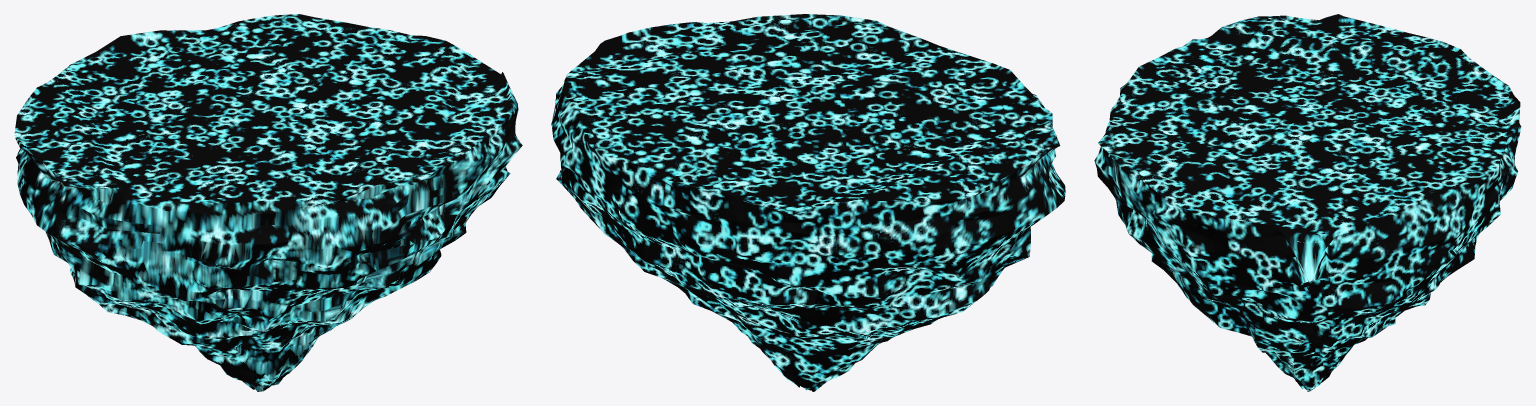
Rendered from upper-island.glb.
The picture shows the model from 3 angles, left to right: view 1: azimuth 30°, elevation 25°; view 2: azimuth 150°, elevation 25°; view 3: azimuth 270°, elevation 25°; orthographic projection. The views are drawn at different scales.
Visible parts, largest first — view 1: skl_upper_island; view 2: skl_upper_island; view 3: skl_upper_island.
Part boxes in pixels (left/top/right/bottom): skl_upper_island: left=14, top=14, right=522, bottom=391; skl_upper_island: left=551, top=14, right=1065, bottom=391; skl_upper_island: left=1094, top=14, right=1521, bottom=391.
Bounding box in the file's own units: 56.47 × 32.34 × 46.34.
Materials: 3 (1 with a texture image).
